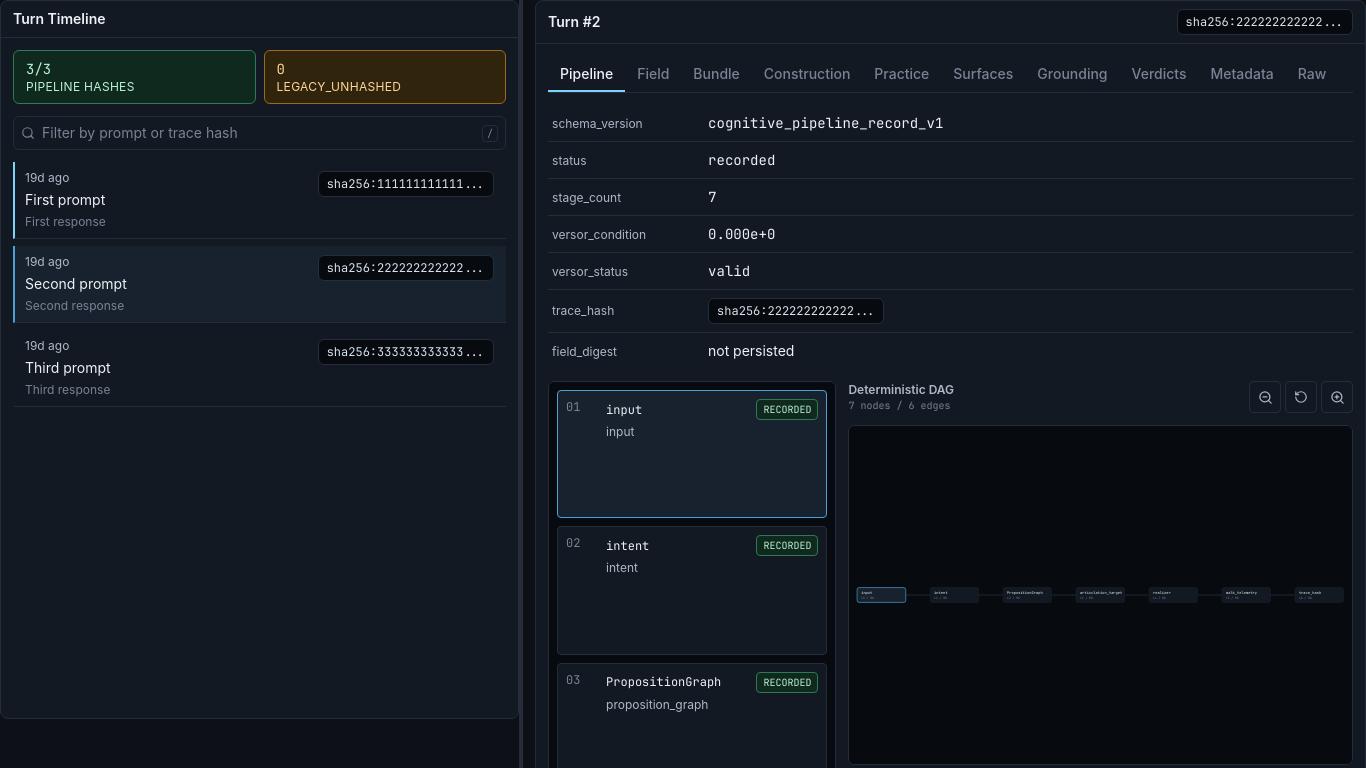
TraceRoute › keeps raw JSON collapsed by default
Step 1. Click the tab "Raw" → (1312,74), box [1286,56,1338,92]
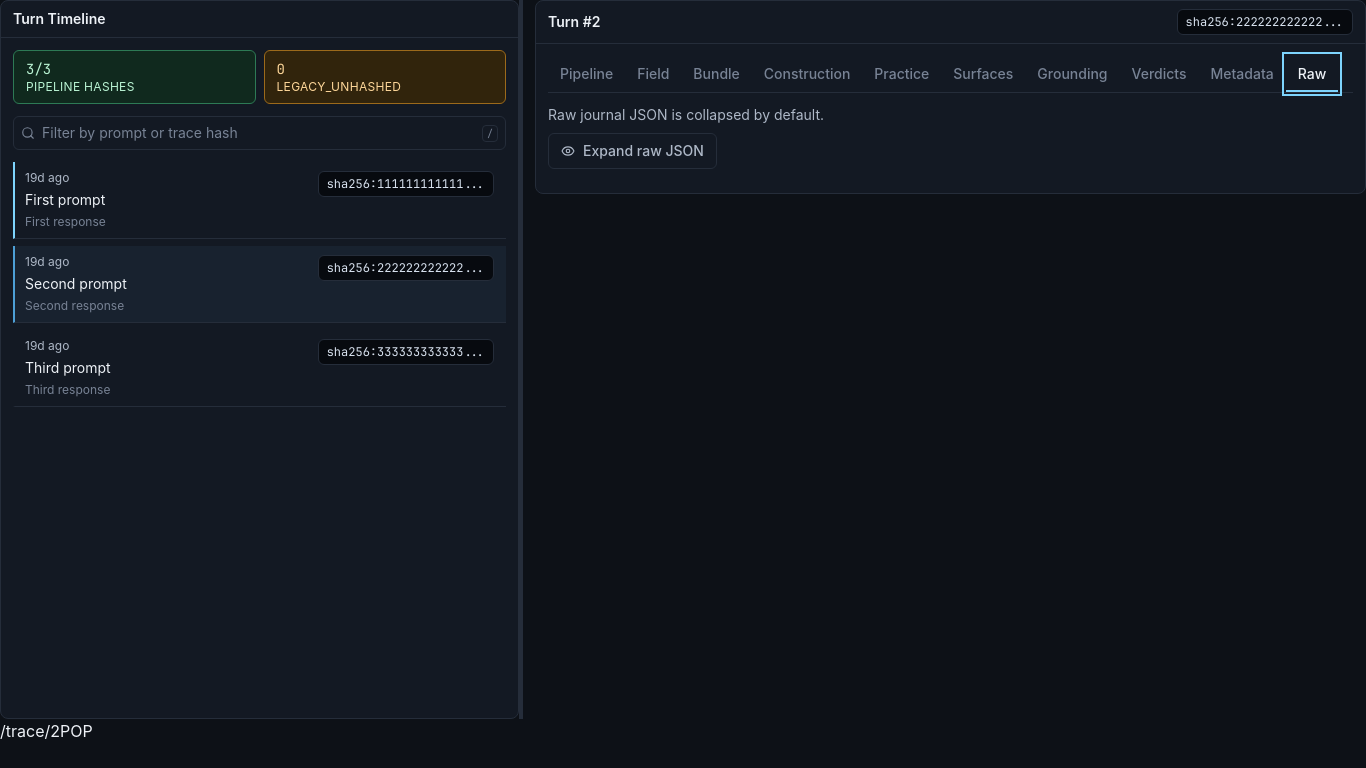
Result: the text "Raw journal JSON is collapsed by default." is shown at [548,105,824,125]
